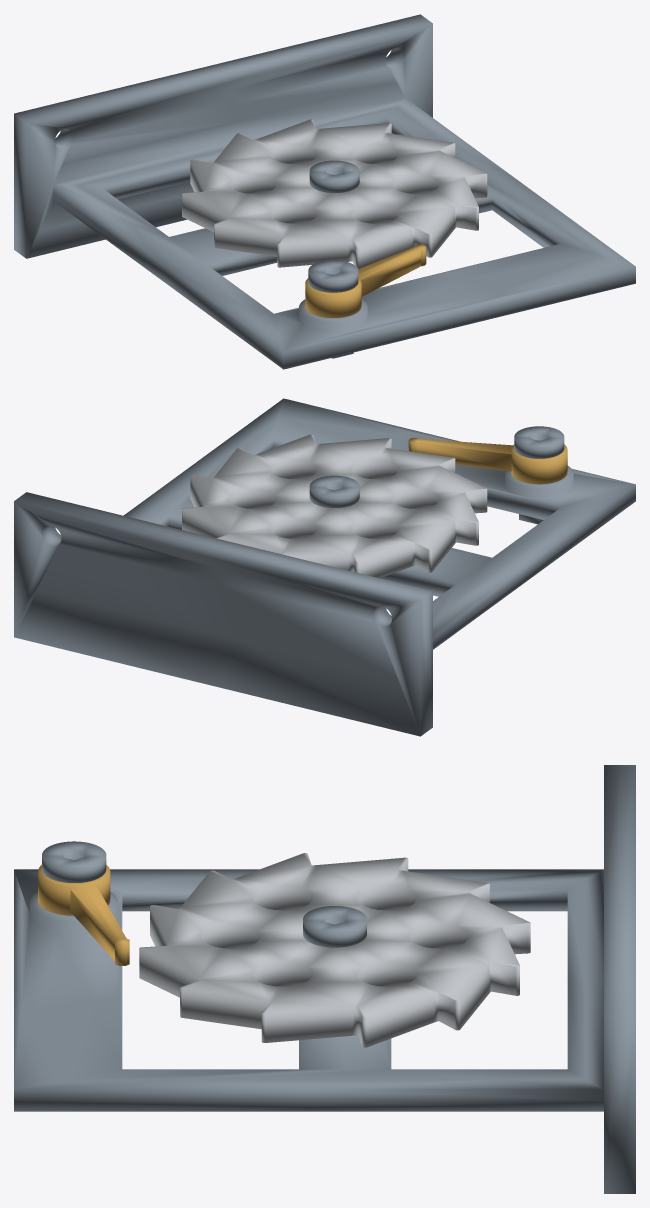
3 renders of one model, top to bottom at view 1: azimuth 30°, elevation 25°; view 2: azimuth 150°, elevation 25°; view 3: azimuth 270°, elevation 25°, orthographic. The views are drawn at different scales.
Parts seen in each view (by area): view 1: body_001__solid_1, body_003__solid_1, body_002__solid_1, body_001__solid_3, body_001__solid_5; view 2: body_001__solid_1, body_003__solid_1, body_002__solid_1, body_001__solid_3, body_001__solid_5; view 3: body_001__solid_1, body_003__solid_1, body_002__solid_1, body_001__solid_3, body_001__solid_5.
Boxes of the visible parts, x1,y1,x2,y2 form: body_001__solid_1: (14,14,635,369); body_003__solid_1: (182,119,487,268); body_002__solid_1: (305,244,426,317); body_001__solid_3: (308,260,358,292); body_001__solid_5: (309,160,359,192); body_001__solid_1: (14,398,635,736); body_003__solid_1: (182,434,487,578); body_002__solid_1: (408,438,567,484); body_001__solid_3: (514,426,564,458); body_001__solid_5: (309,475,359,507); body_001__solid_1: (14,765,635,1193); body_003__solid_1: (139,853,530,1047); body_002__solid_1: (38,865,129,965); body_001__solid_3: (42,841,106,882); body_001__solid_5: (303,906,366,947).
Bounding box in the file's own units: 0.15 × 0.048 × 0.155.
